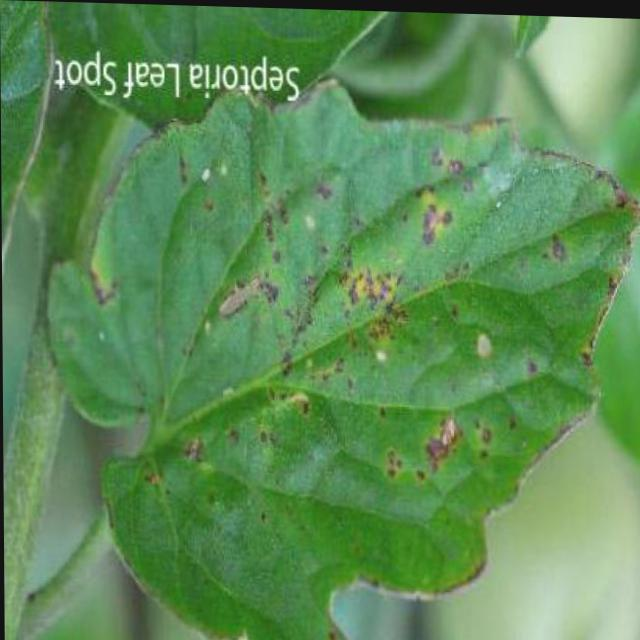Tomato Septoria spot leaf: (37, 60, 638, 639)
